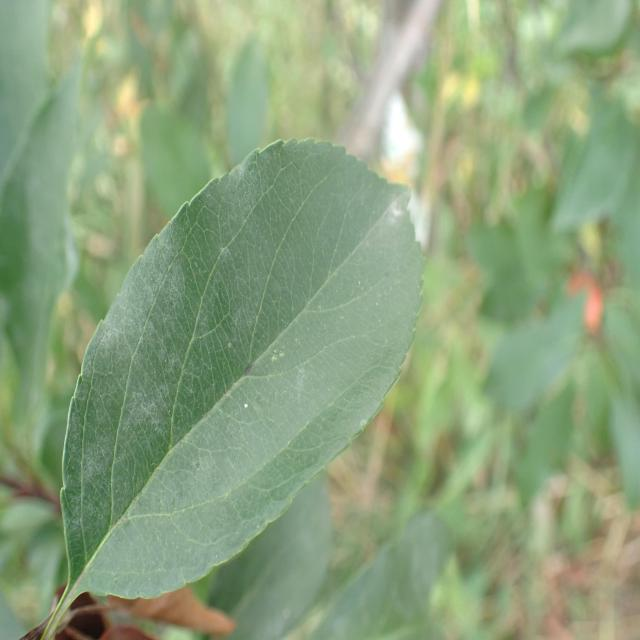Powdery_mildew: (54, 160, 474, 549)
